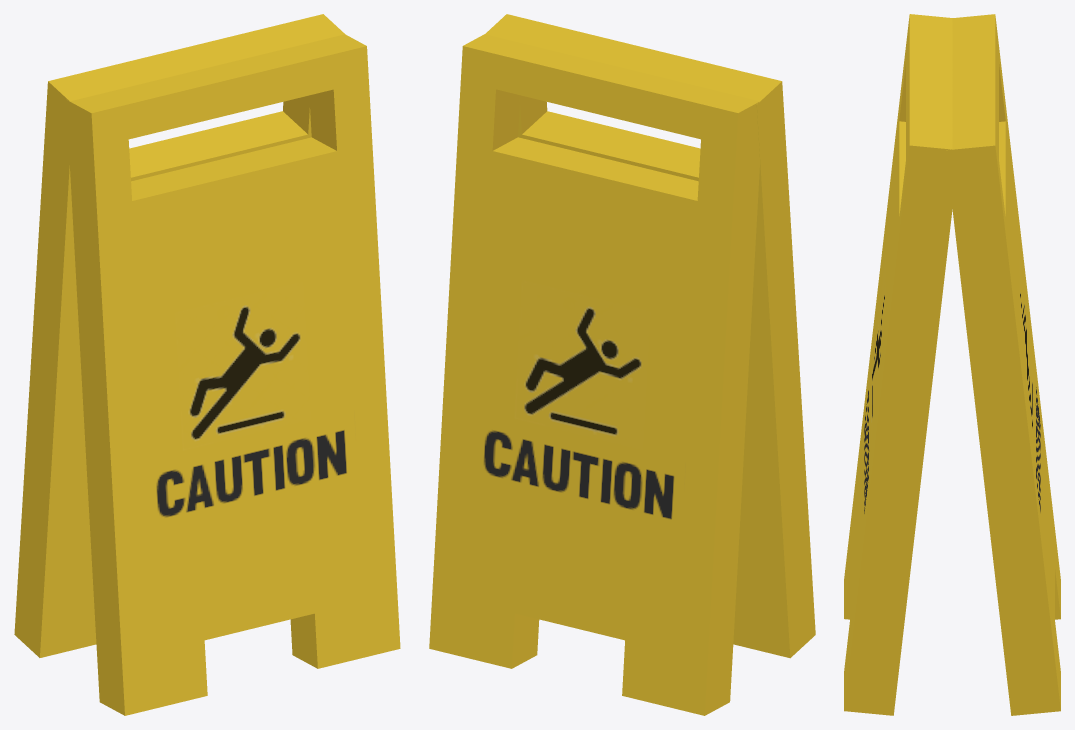
The model's file is SignCaution.glb.
3 views of the same model, side by side, from view 1: azimuth 30°, elevation 25°; view 2: azimuth 150°, elevation 25°; view 3: azimuth 270°, elevation 25° (orthographic). The views are drawn at different scales.
Visible parts, largest first — view 1: SI_Prop_SignCaution_01; view 2: SI_Prop_SignCaution_01; view 3: SI_Prop_SignCaution_01.
Boxes of the visible parts, x1,y1,x2,y2 form: SI_Prop_SignCaution_01: (14,14,400,715); SI_Prop_SignCaution_01: (429,14,815,715); SI_Prop_SignCaution_01: (844,14,1060,715).
Size of the model in its own units: 0.00681 by 0.0138 by 0.00474.
1 material, 1 textured.
